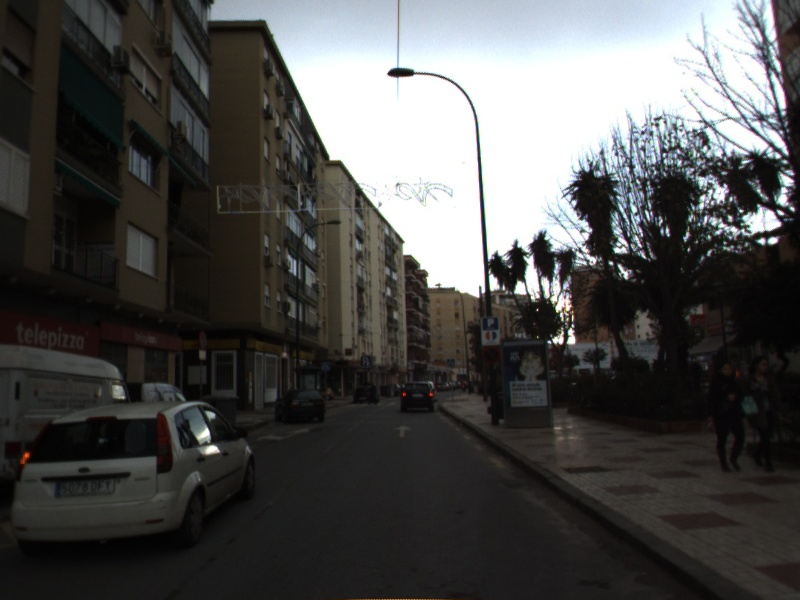STRAIGHT: (392, 423, 415, 439)
STRAIGHT_LEFT: (255, 426, 312, 444)
